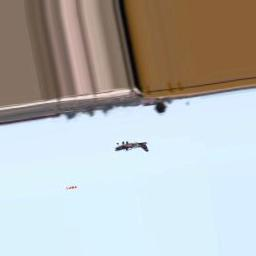Airplane: (114, 140, 150, 154)
